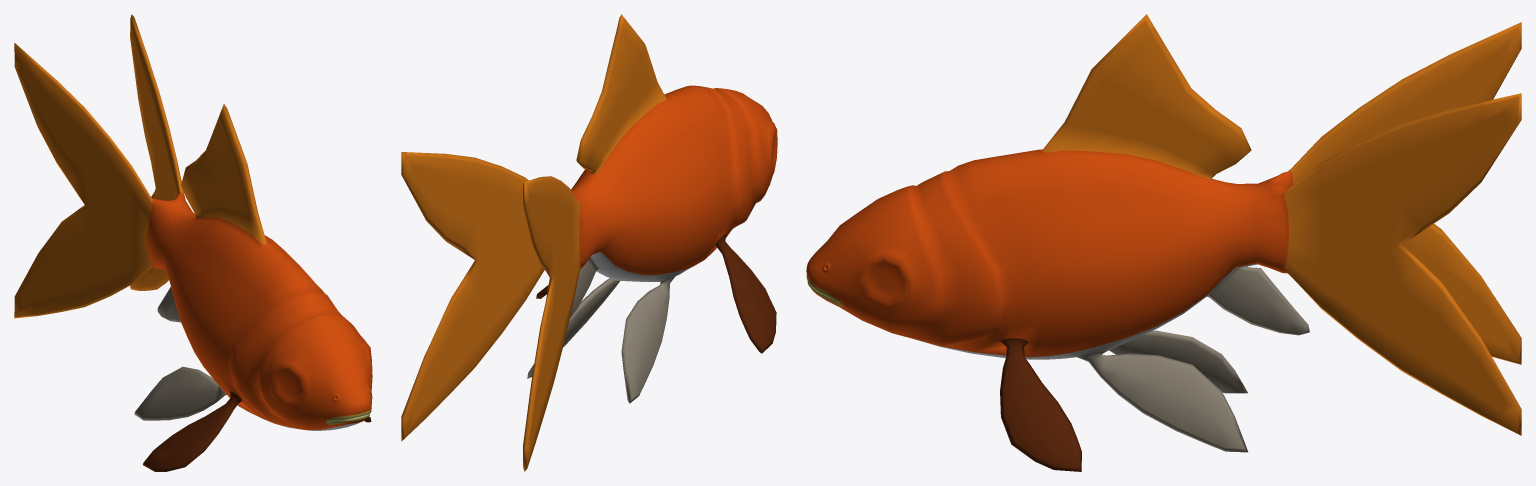
Rendered from goldfish_goldfish.obj.
3 renders of one model, left to right at view 1: azimuth 30°, elevation 25°; view 2: azimuth 150°, elevation 25°; view 3: azimuth 270°, elevation 25°, orthographic. The views are drawn at different scales.
Parts seen in each view (by area): view 1: goldfish; view 2: goldfish; view 3: goldfish.
Part boxes in pixels (x1,y1,x2,y2): goldfish: (14, 14, 372, 471); goldfish: (401, 14, 777, 471); goldfish: (806, 14, 1521, 471).
Bounding box in the file's own units: 0.0859 × 0.1253 × 0.1986.
